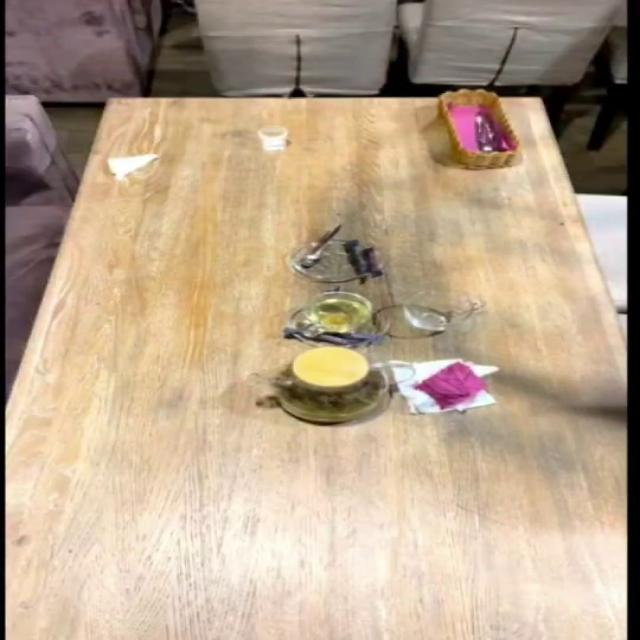tea: (269, 345, 390, 424)
